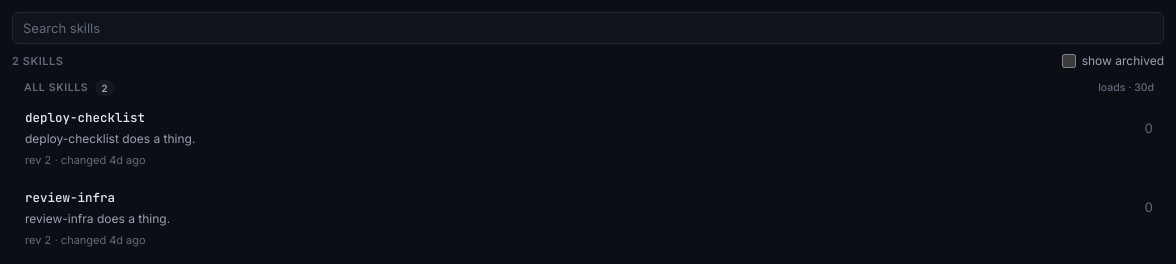
Test: SkillList › appends the next page of a search
The image size is (1176, 264).
Expected: the text "deploy-checklist" is shown, [25,109,145,126]
Type "skill" into the search field labelled "Search skills" at (588, 28), box [12,12,1164,44]
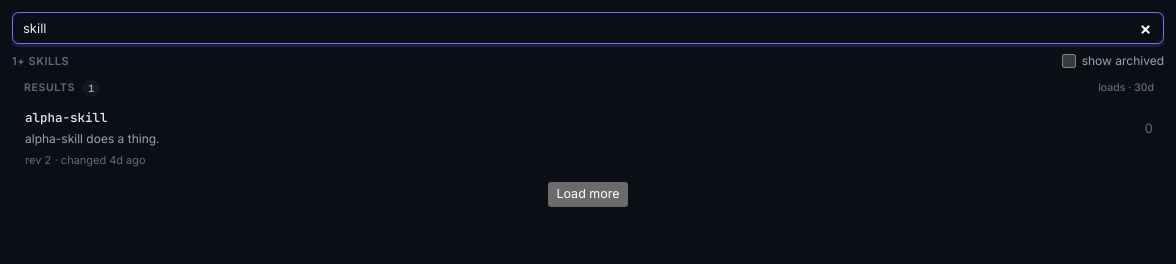
Click the button "Load more" at (588, 194), box [548,182,628,207]
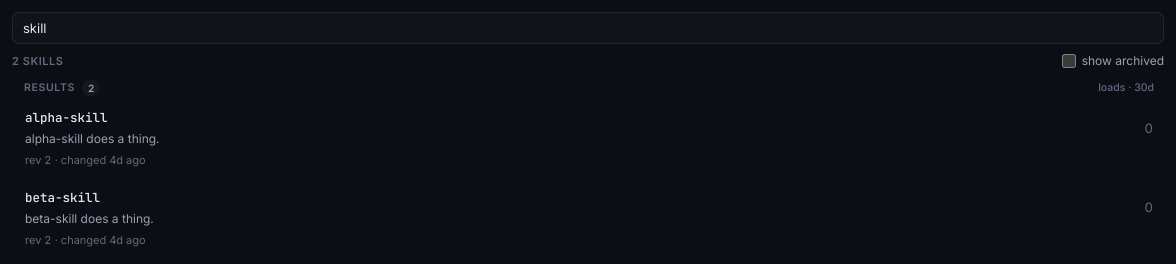
Now the text "alpha-skill" is shown, box [25,109,108,126]
Now the text "beta-skill" is shown, box [25,189,100,206]
Now the button "Load more" is gone
